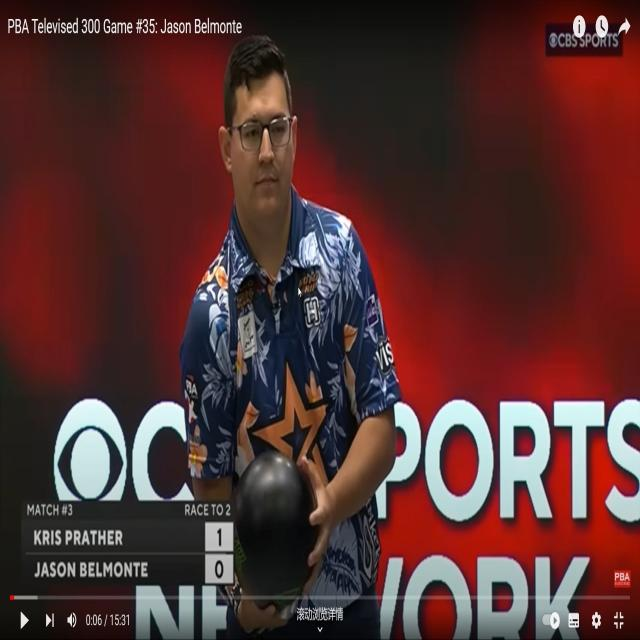balls: (232, 449, 318, 610)
